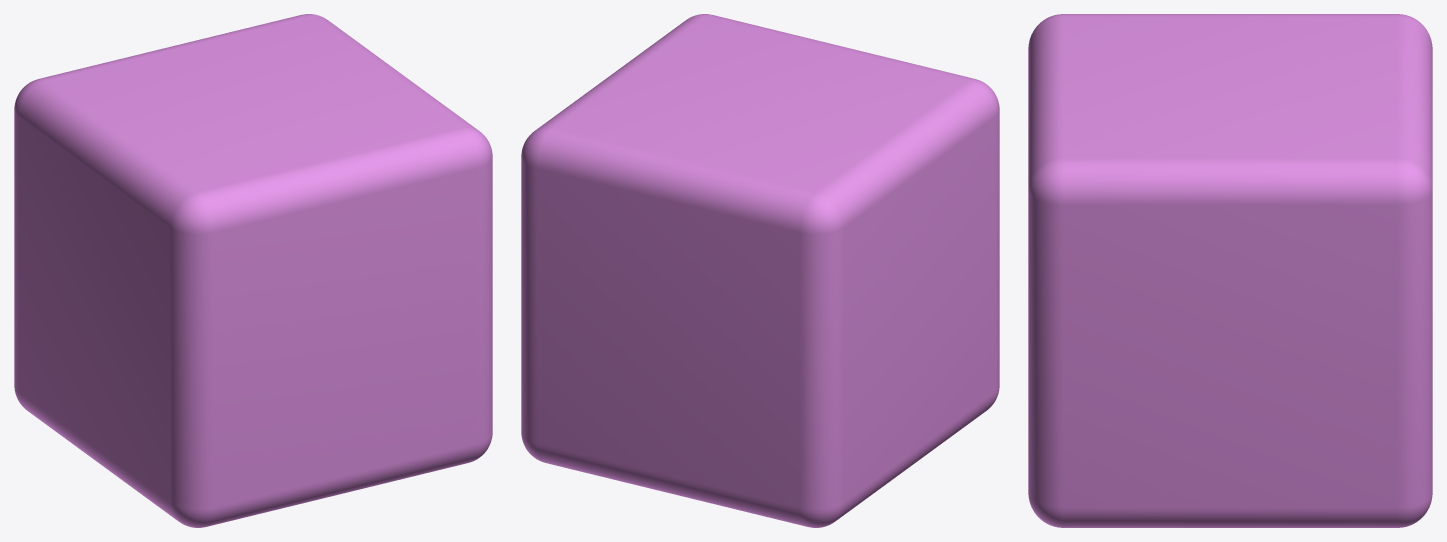
The model's file is rcube.glb.
The picture shows the model from 3 angles, left to right: view 1: azimuth 30°, elevation 25°; view 2: azimuth 150°, elevation 25°; view 3: azimuth 270°, elevation 25°; orthographic projection. The views are drawn at different scales.
Visible parts, largest first — view 1: rcube; view 2: rcube; view 3: rcube.
Part boxes in pixels (bbox=[...]): rcube: bbox=[14, 14, 492, 527]; rcube: bbox=[521, 14, 999, 527]; rcube: bbox=[1028, 14, 1432, 527].
Bounding box in the file's own units: 2 × 2 × 2.
Materials: 1 (1 with a texture image).
